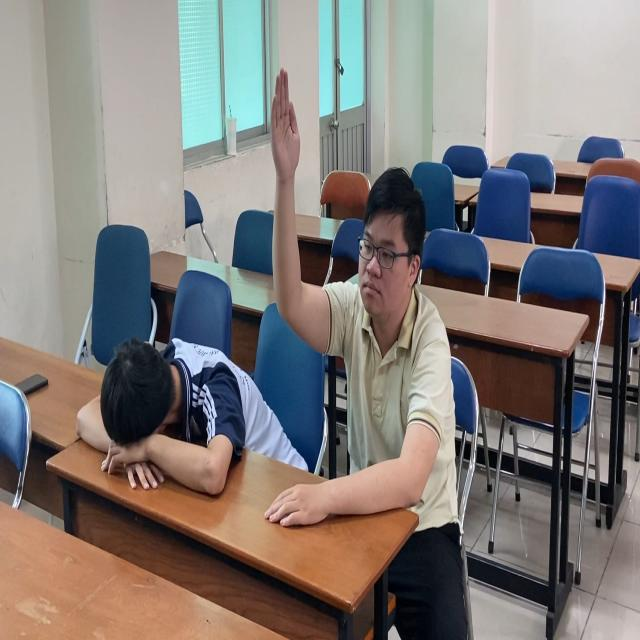raise_hand: (267, 66, 469, 553)
sleep: (70, 322, 278, 496)
